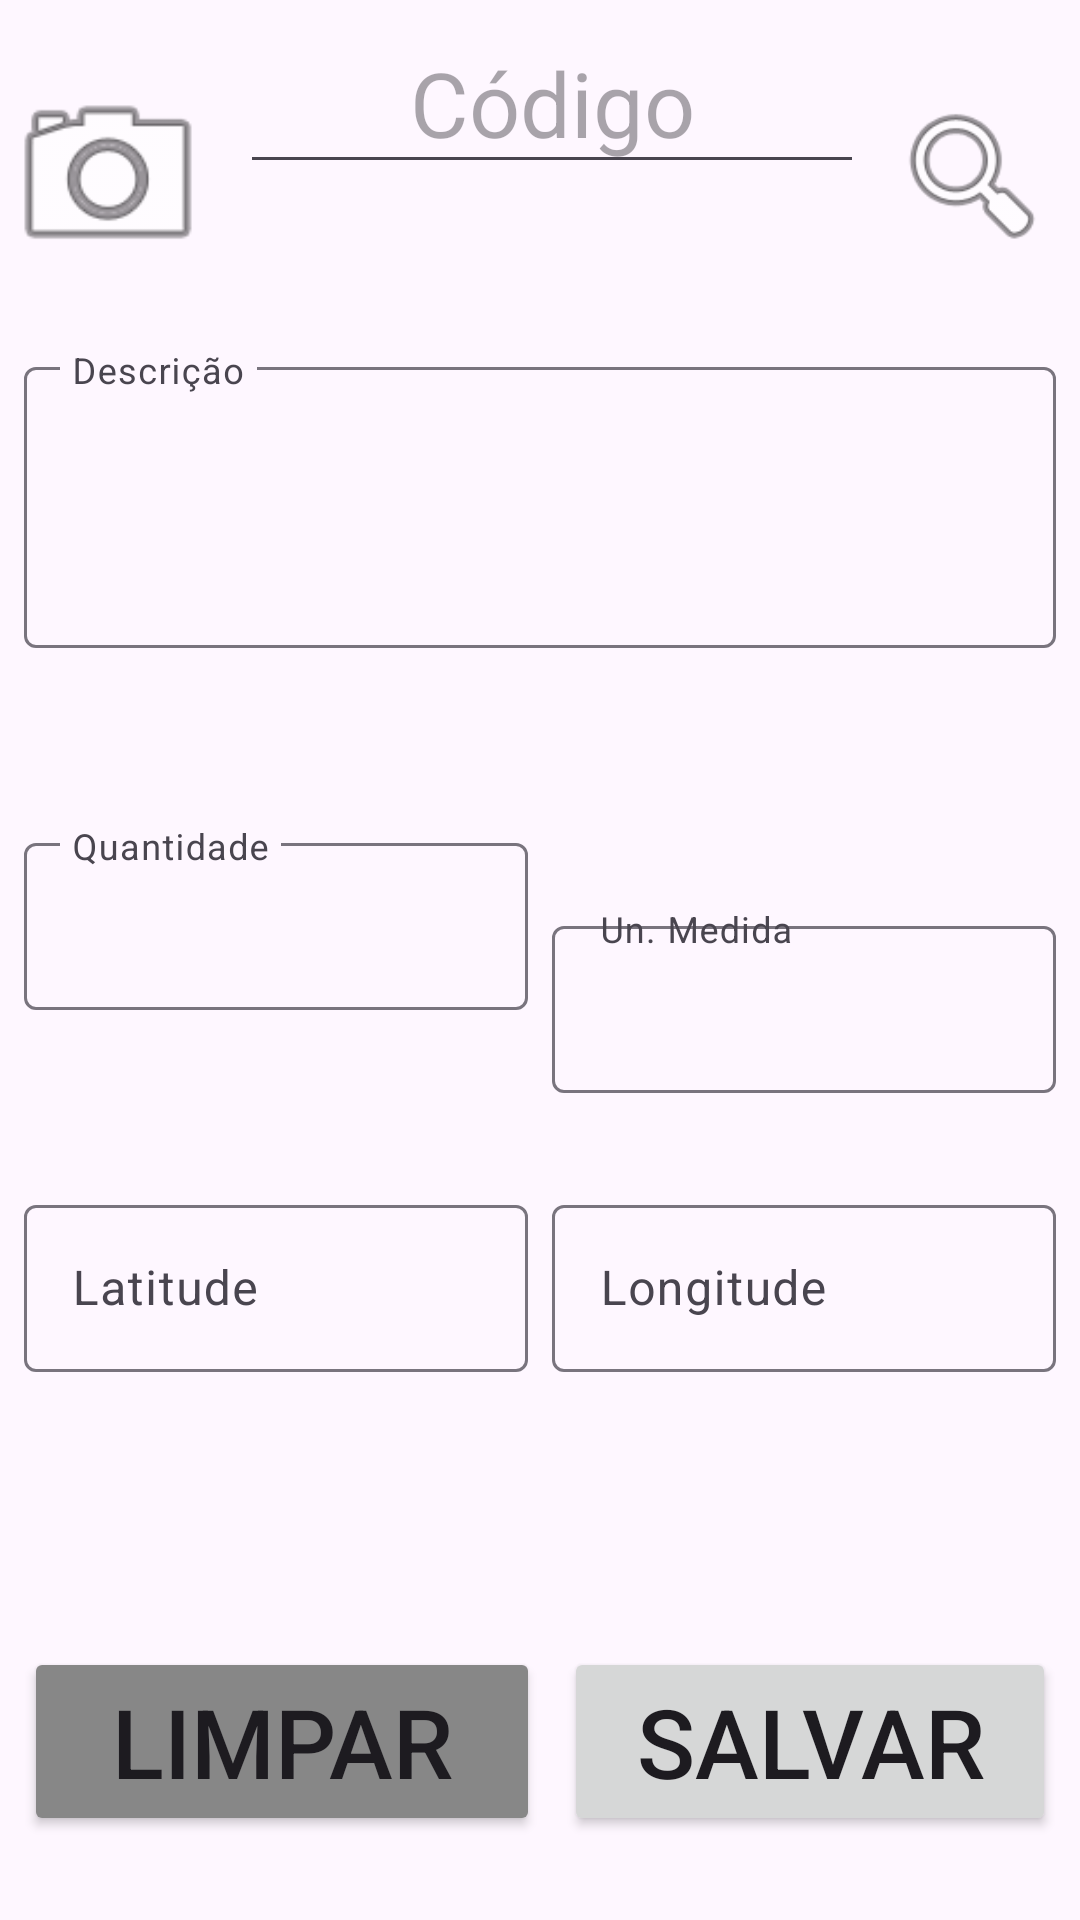

Named icons in this screenshot (1080w x 1920h) and their centers, (x=x, y=y):
Clique para acessar a câmera: (x=108, y=172)
search: (x=972, y=176)
